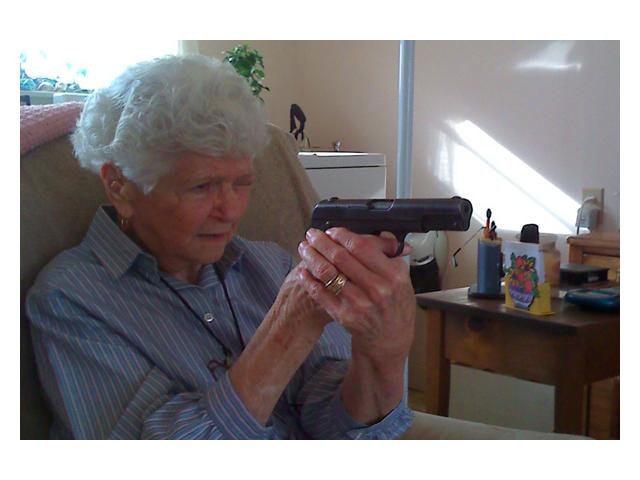pistol: (306, 191, 474, 331)
